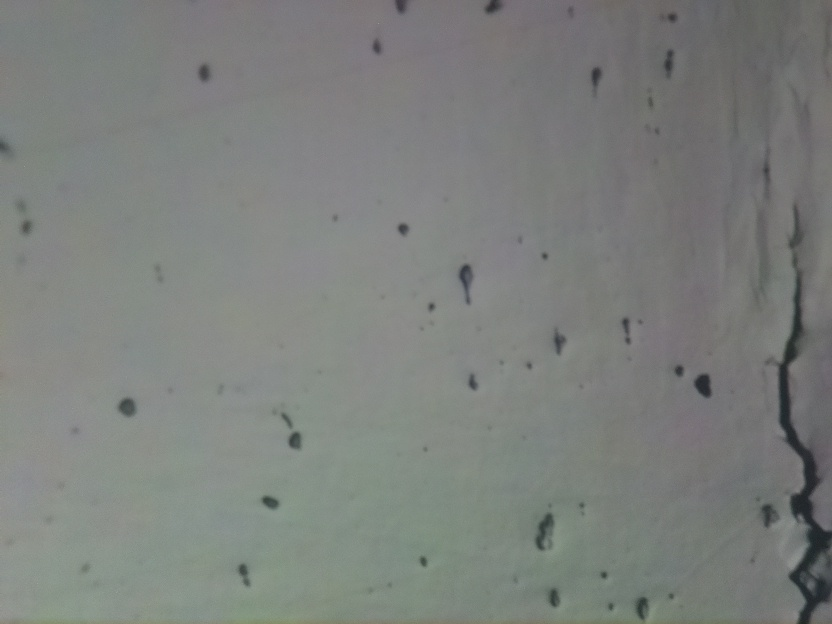crack: (776, 203, 832, 624)
